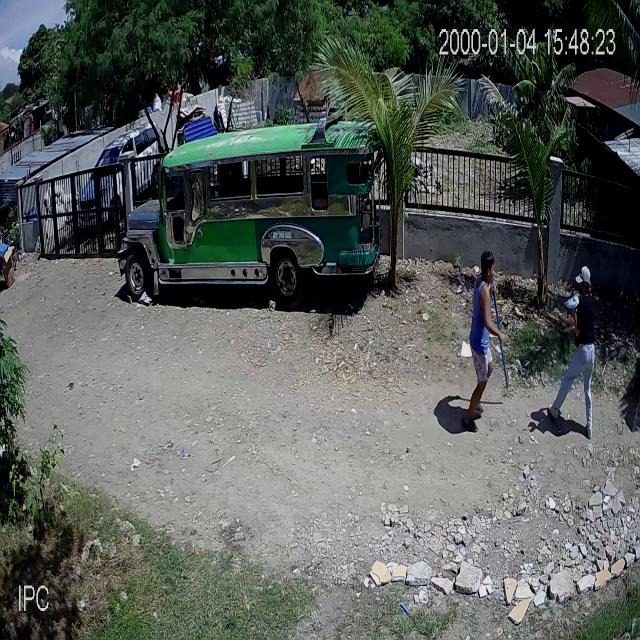running: (461, 252, 509, 430), (548, 264, 596, 435)
